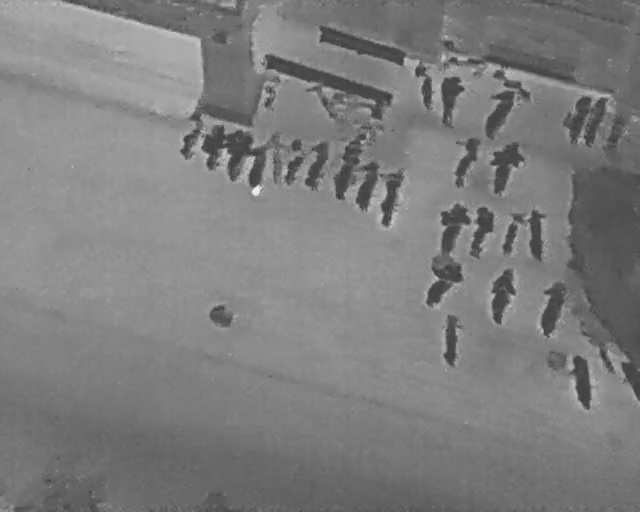Bicycle: (409, 246, 472, 316), (480, 133, 532, 200), (472, 78, 524, 142), (428, 196, 477, 260), (367, 161, 409, 230), (481, 262, 523, 328), (530, 275, 572, 341), (442, 128, 485, 191), (555, 85, 598, 148), (235, 135, 276, 198), (459, 202, 502, 262), (328, 135, 365, 203), (216, 124, 256, 185), (349, 154, 385, 215), (576, 90, 611, 150), (433, 70, 468, 128), (494, 207, 531, 261), (300, 135, 334, 192), (173, 109, 209, 161), (195, 119, 229, 172), (279, 134, 311, 187), (568, 350, 595, 411), (525, 206, 548, 264), (442, 310, 463, 369), (265, 130, 287, 186), (256, 71, 284, 113), (414, 63, 435, 113)
DontCare: (304, 74, 351, 126), (362, 97, 390, 125)
